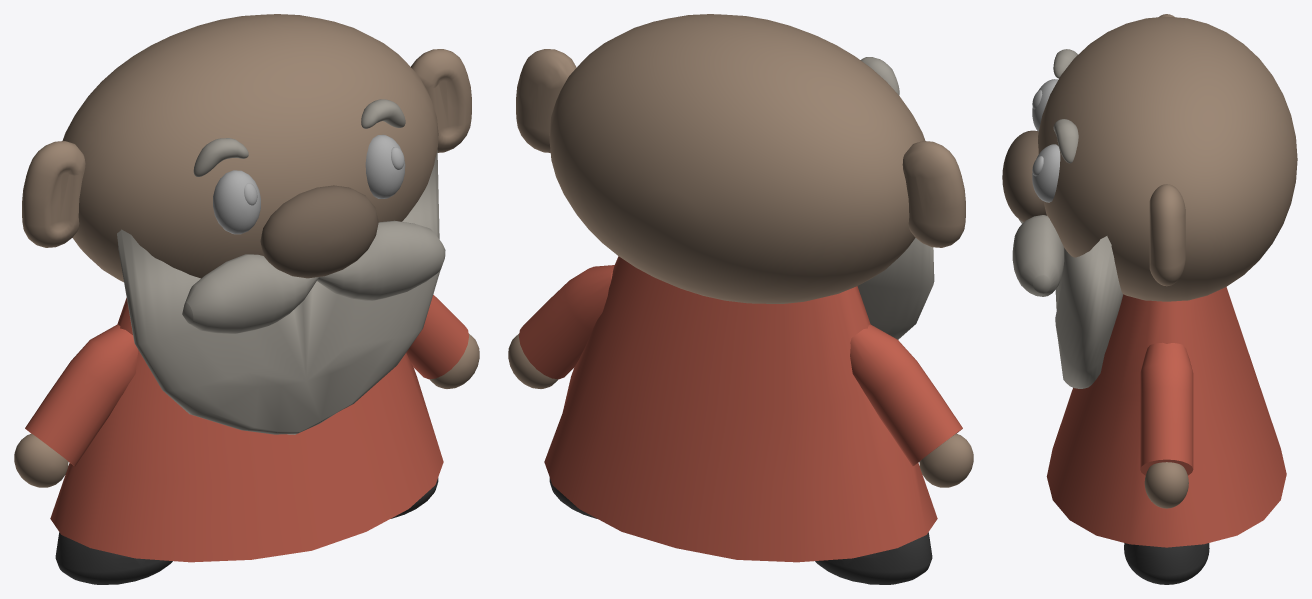
Rendered from Gnome.fbx.
3 renders of one model, left to right at view 1: azimuth 30°, elevation 25°; view 2: azimuth 150°, elevation 25°; view 3: azimuth 270°, elevation 25°, orthographic. The views are drawn at different scales.
Parts seen in each view (by area): view 1: head, body, beard, arms, ears, nose, eye, feet, hands, eyebrow; view 2: head, body, arms, ears, beard, feet, hands; view 3: head, body, beard, arms, ears, feet, nose, eye, hands, eyebrow.
Part boxes in pixels (left/top/right/bottom): head: left=62, top=14, right=438, bottom=282; body: left=50, top=298, right=443, bottom=562; beard: left=117, top=150, right=445, bottom=434; arms: left=25, top=295, right=468, bottom=466; ears: left=22, top=49, right=471, bottom=247; nose: left=260, top=185, right=378, bottom=278; eye: left=213, top=134, right=405, bottom=234; feet: left=55, top=478, right=438, bottom=584; hands: left=14, top=333, right=479, bottom=487; eyebrow: left=193, top=99, right=405, bottom=176; head: left=549, top=14, right=925, bottom=303; body: left=544, top=256, right=937, bottom=562; arms: left=519, top=265, right=962, bottom=466; ears: left=516, top=49, right=965, bottom=247; beard: left=857, top=238, right=934, bottom=339; feet: left=549, top=478, right=932, bottom=584; hands: left=508, top=333, right=973, bottom=487; head: left=1038, top=16, right=1297, bottom=301; body: left=1046, top=287, right=1286, bottom=547; beard: left=1012, top=215, right=1123, bottom=388; arms: left=1140, top=342, right=1193, bottom=475; ears: left=1149, top=14, right=1185, bottom=286; feet: left=1124, top=543, right=1209, bottom=584; nose: left=1002, top=130, right=1046, bottom=221; eye: left=1032, top=79, right=1060, bottom=202; hands: left=1144, top=462, right=1188, bottom=508; eyebrow: left=1053, top=49, right=1078, bottom=163.
Bounding box in the file's own units: 16 × 17.11 × 9.64.
